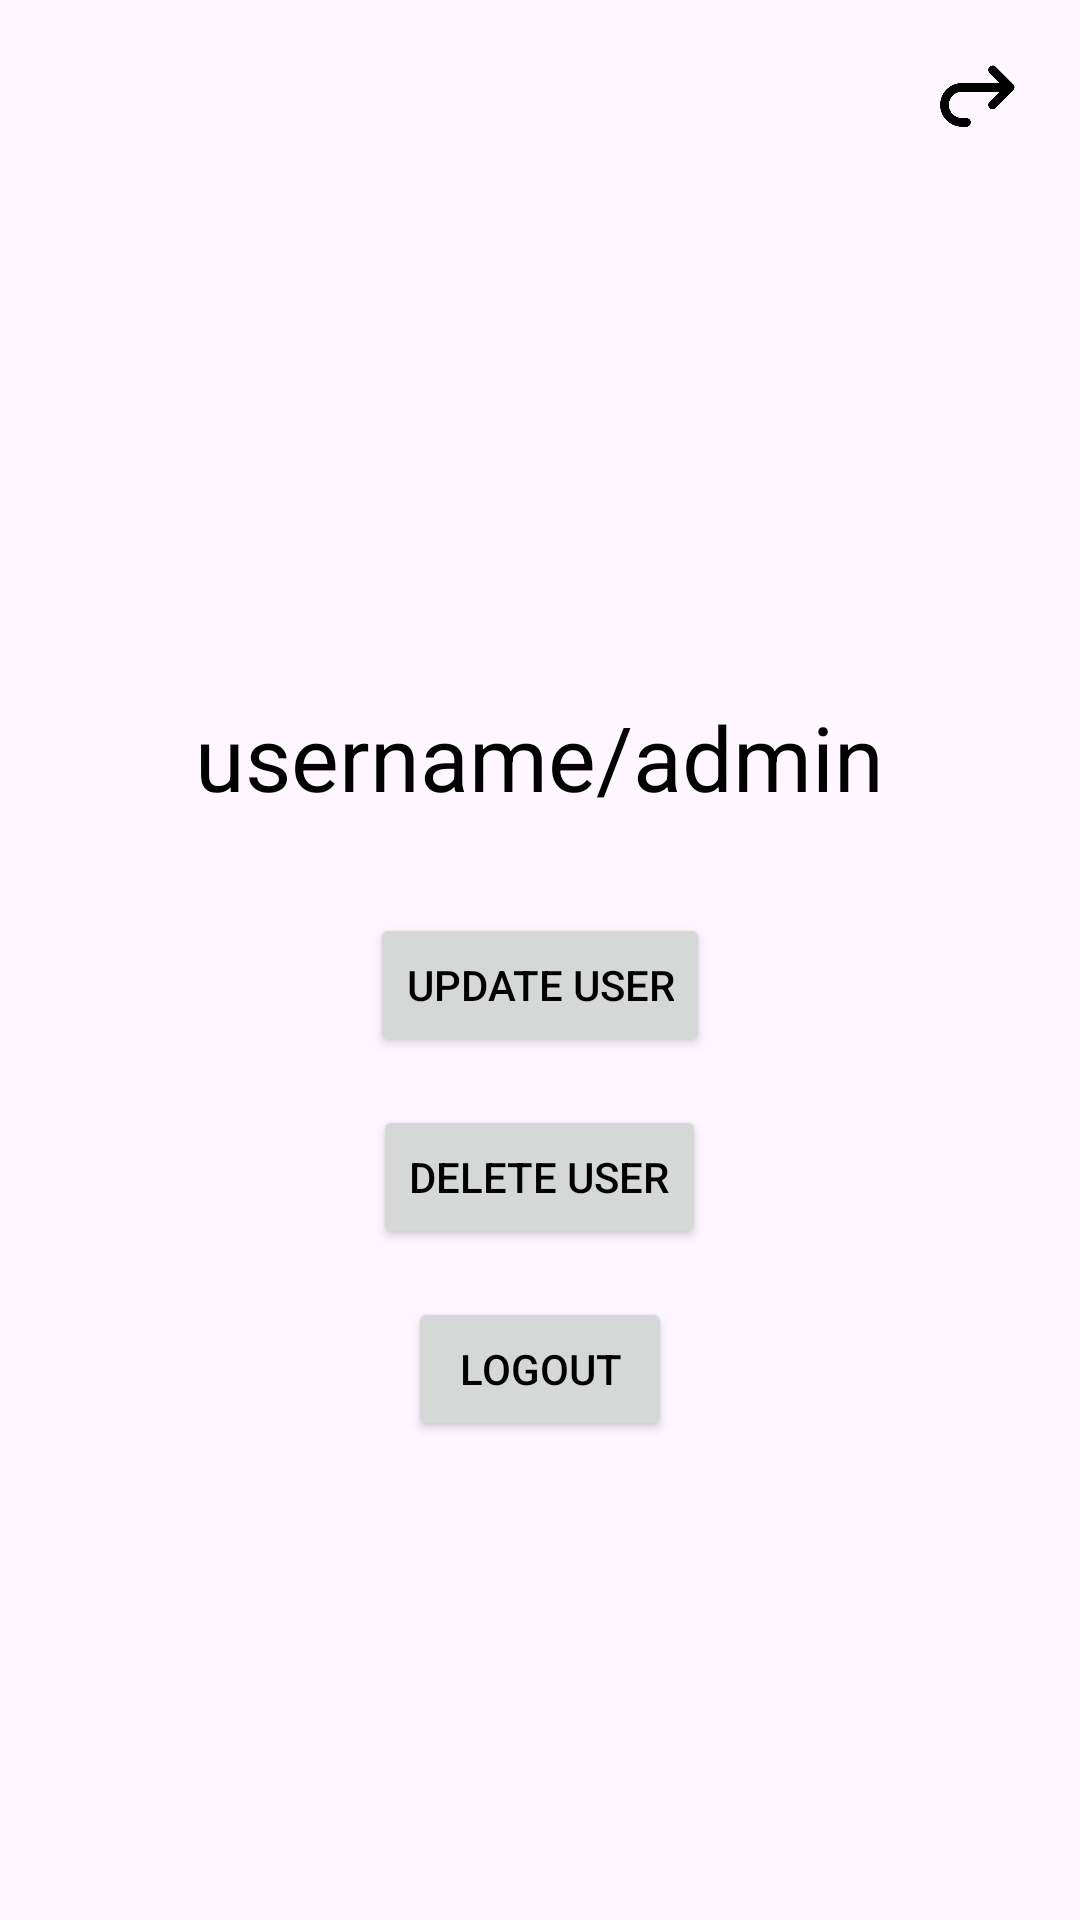

Point at icon controls on the screen. Image size 1080x1920, points as point (x, y).
return: point (977, 96)
